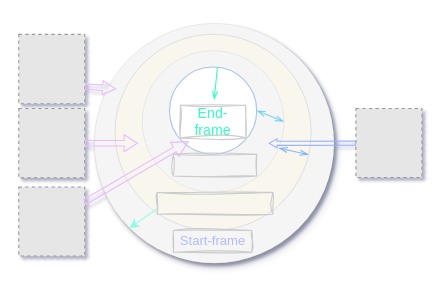
The diagram is 448 pixels wide and 295 high, and some of its shapes have lost their labels. Grey dashed boxes stand in for pictures. Here are the shapes that lost their labels. From the top down, the centre of each, then its label:
the point at 214,164: negative
the point at 214,202: in-porcess
